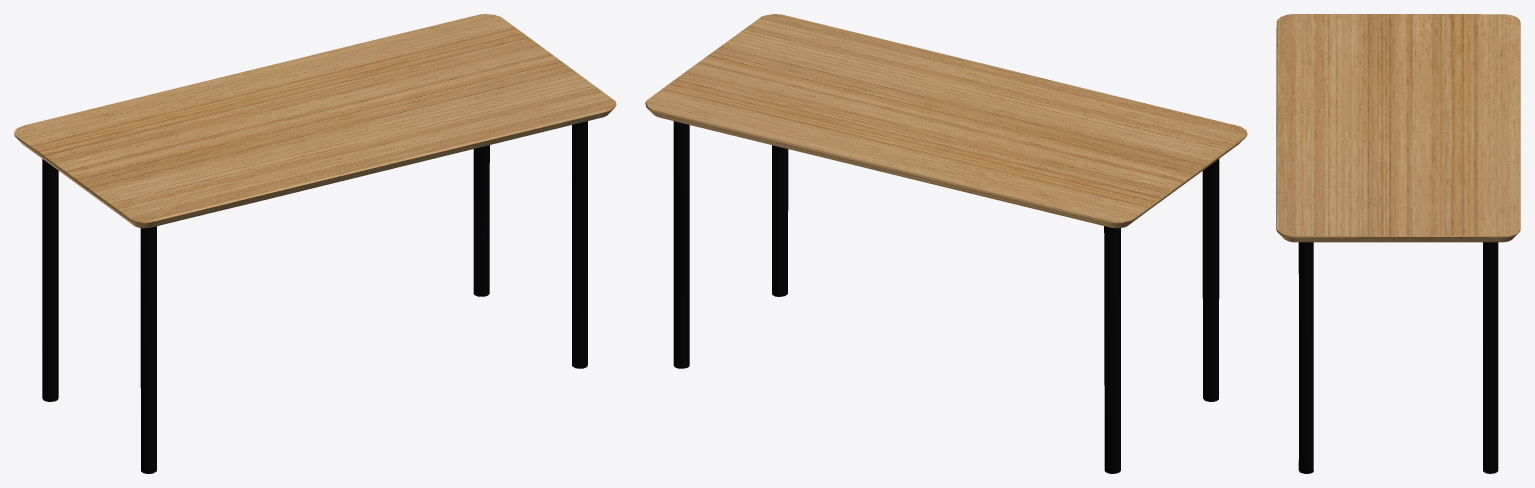
Rendered from ANFALLARE desk.glb.
3 renders of one model, left to right at view 1: azimuth 30°, elevation 25°; view 2: azimuth 150°, elevation 25°; view 3: azimuth 270°, elevation 25°, orthographic. The views are drawn at different scales.
Parts seen in each view (by area): view 1: ProcessedMeshNode; view 2: ProcessedMeshNode; view 3: ProcessedMeshNode.
Boxes of the visible parts, x1,y1,x2,y2 form: ProcessedMeshNode: (14, 14, 616, 473); ProcessedMeshNode: (645, 14, 1247, 473); ProcessedMeshNode: (1276, 14, 1520, 473).
Bounding box in the file's own units: 1.4 × 0.7287 × 0.6504.
Materials: 1 (1 with a texture image).
